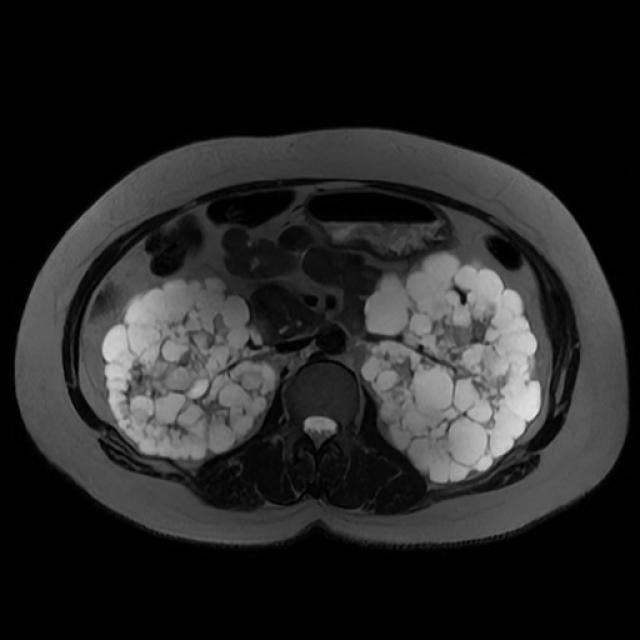sag: (101, 276, 277, 462)
sol: (362, 252, 543, 483)
